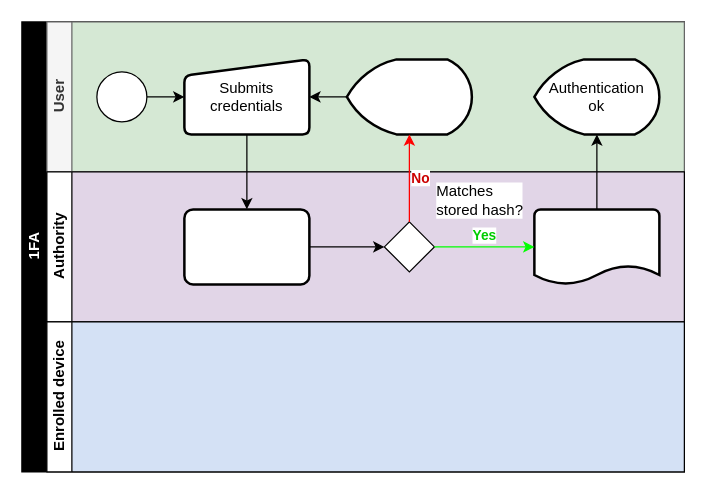
This 706x494 diagram has some shape labels left out. The box of each missing label's shape, as (x1, y1, x2, y2) in pixels:
Authentication failed: (345, 58, 472, 135)
Hash credentials, lookup hash in user database: (182, 208, 310, 285)
Session: (532, 208, 660, 285)
Visits App: (96, 71, 147, 122)
